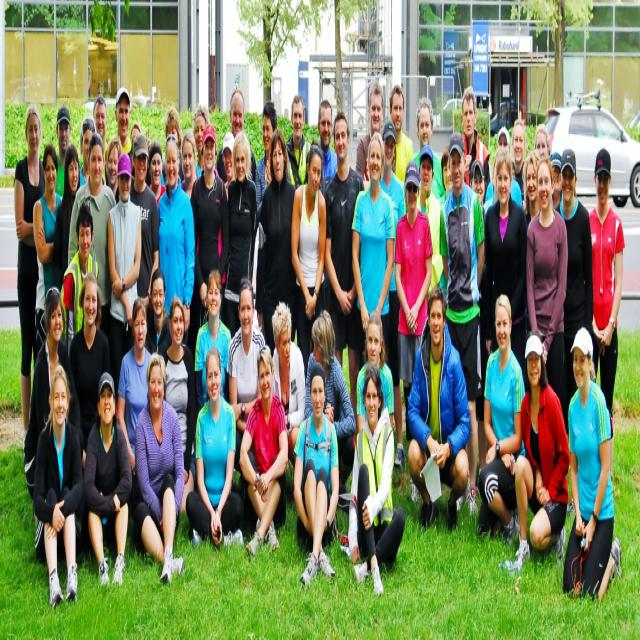body: (438, 128, 486, 520), (562, 324, 622, 602), (406, 282, 472, 534), (511, 331, 571, 578), (346, 361, 406, 603), (323, 109, 365, 443), (394, 159, 434, 505), (475, 292, 528, 550), (131, 348, 187, 588), (184, 344, 248, 552), (31, 361, 84, 611), (525, 154, 569, 446), (588, 145, 626, 481), (482, 144, 530, 393), (13, 103, 46, 459), (81, 368, 133, 593), (22, 286, 76, 502), (292, 356, 341, 592), (554, 146, 594, 434), (350, 130, 396, 375), (238, 342, 290, 558), (106, 149, 144, 430), (67, 134, 117, 341), (379, 116, 407, 472), (304, 307, 357, 493), (257, 126, 301, 348), (190, 123, 232, 351), (290, 139, 327, 392), (225, 276, 267, 482), (68, 272, 112, 462), (160, 296, 198, 514), (155, 132, 196, 334), (270, 298, 307, 510), (222, 130, 258, 340), (32, 144, 64, 361), (59, 204, 99, 362), (117, 294, 151, 477), (193, 266, 233, 416), (469, 156, 487, 469), (130, 133, 160, 315), (356, 309, 396, 434), (130, 103, 182, 191), (415, 143, 443, 304), (406, 94, 448, 200), (52, 141, 81, 294), (254, 101, 291, 217), (215, 86, 257, 187), (460, 83, 492, 206), (354, 76, 388, 186), (484, 123, 524, 207), (143, 264, 173, 370), (386, 82, 414, 185), (287, 96, 311, 186), (317, 98, 338, 197), (108, 87, 134, 156), (53, 105, 72, 198), (190, 104, 212, 181), (508, 118, 526, 206), (93, 94, 109, 186), (522, 150, 540, 231), (180, 132, 200, 198), (78, 117, 96, 187), (104, 135, 122, 205), (148, 140, 167, 206), (221, 129, 238, 202), (548, 150, 562, 212), (534, 123, 551, 160), (440, 148, 451, 190)
